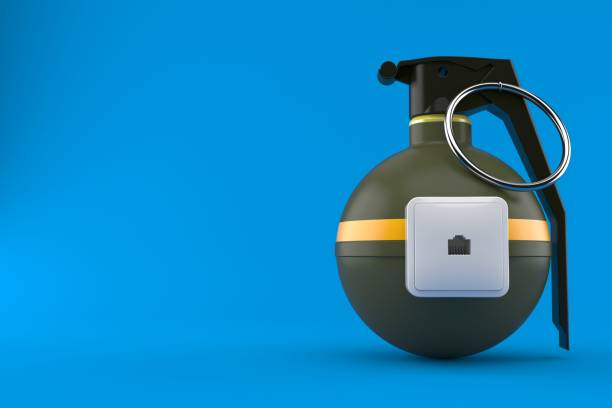e1: (333, 55, 574, 358)
